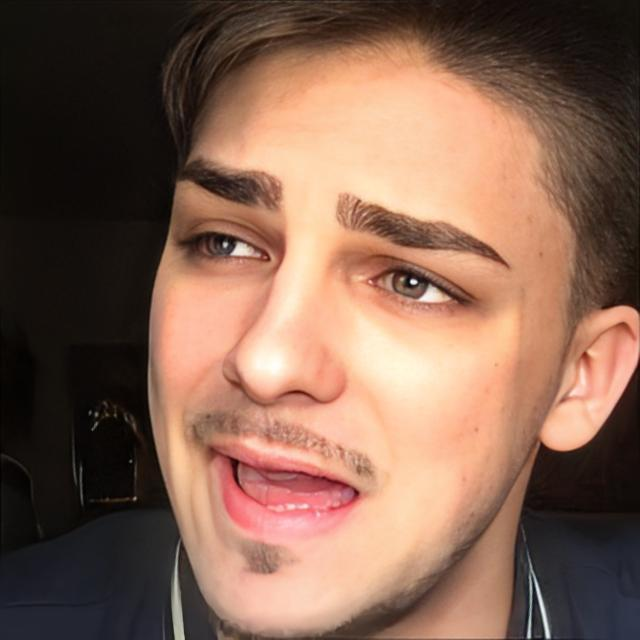sad: (152, 32, 566, 623)
